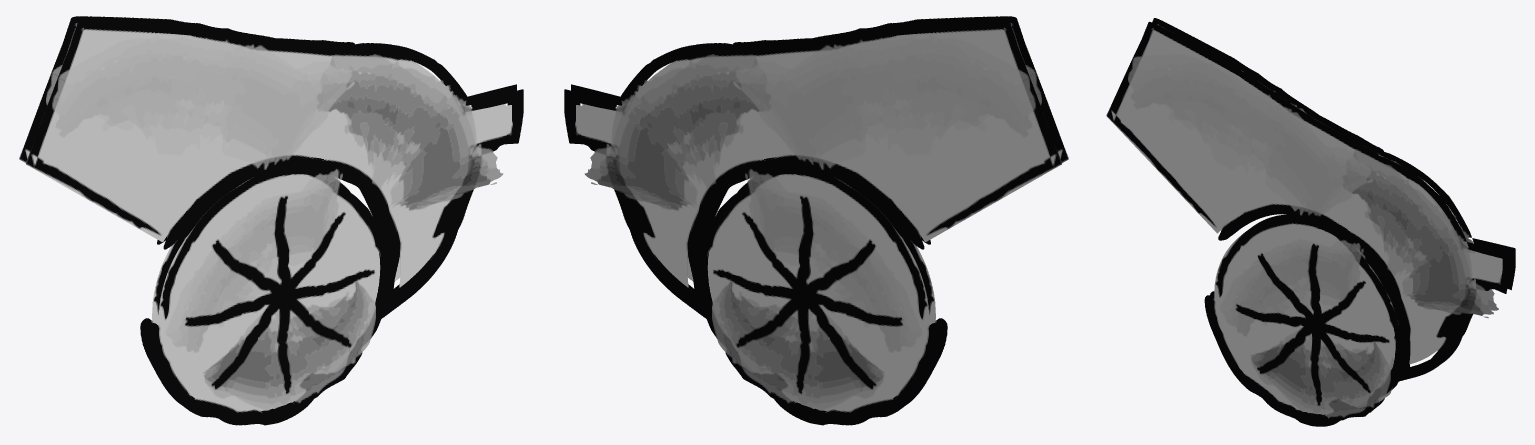
Rendered from Cannon.fbx.
3 views of the same model, side by side, from view 1: azimuth 30°, elevation 25°; view 2: azimuth 150°, elevation 25°; view 3: azimuth 330°, elevation 25° (orthographic). The views are drawn at different scales.
Parts seen in each view (by area): view 1: Cannon_MDL; view 2: Cannon_MDL; view 3: Cannon_MDL.
Part boxes in pixels (bbox=[...]): Cannon_MDL: bbox=[19, 16, 523, 425]; Cannon_MDL: bbox=[564, 16, 1068, 425]; Cannon_MDL: bbox=[1106, 18, 1515, 426].
Size of the model in its own units: 179 by 153 by 4.
1 material, 1 textured.
